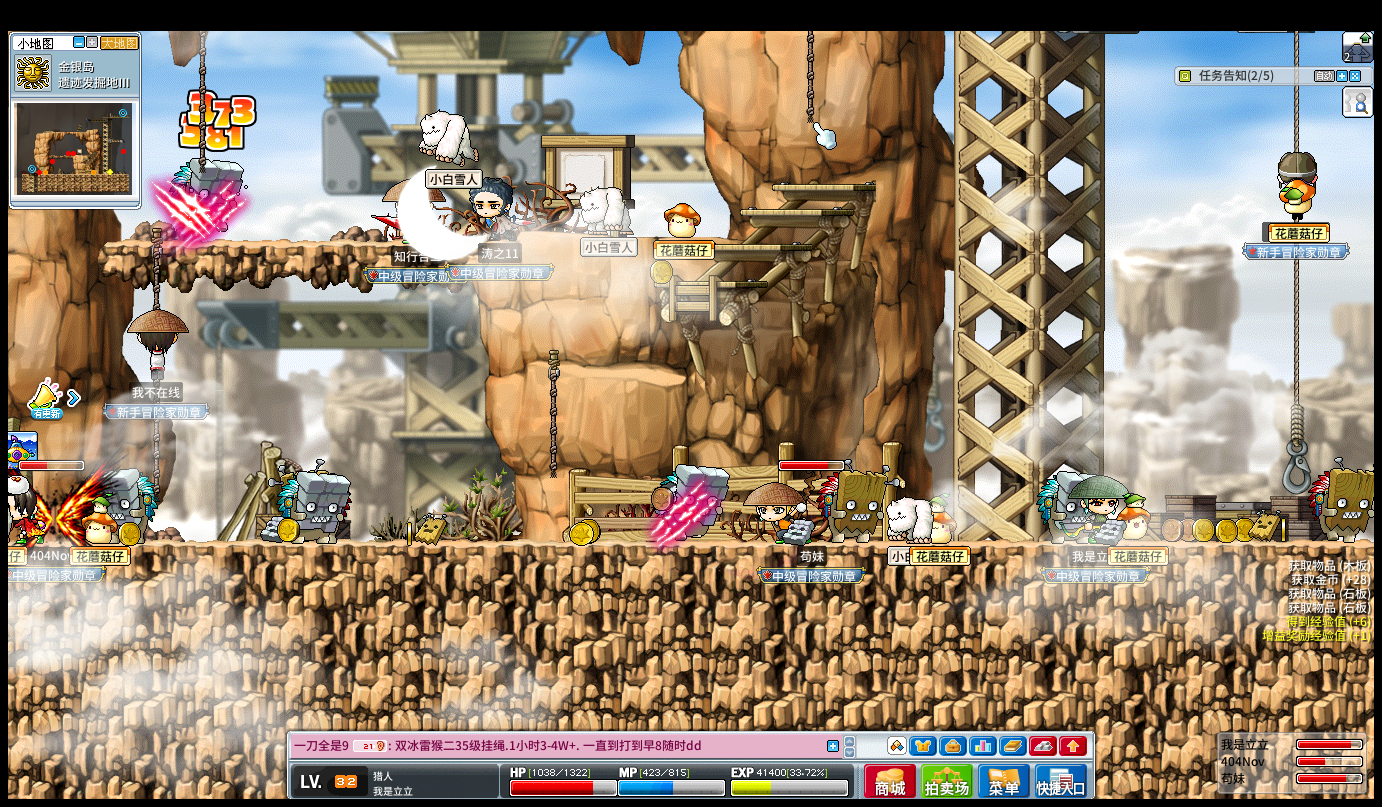floor: (102, 239, 479, 249), (579, 364, 687, 385), (650, 279, 765, 288), (618, 232, 738, 240), (705, 243, 810, 251), (736, 207, 848, 214), (771, 184, 875, 191)
monster: (818, 463, 896, 542), (173, 160, 247, 238), (1308, 460, 1378, 542), (281, 471, 353, 545), (663, 464, 730, 538), (1036, 470, 1083, 543)
rope: (546, 350, 561, 482), (1291, 257, 1302, 407), (197, 31, 208, 175), (151, 229, 162, 307), (1292, 29, 1299, 148), (805, 29, 813, 123), (1289, 403, 1304, 443), (156, 419, 164, 487)
